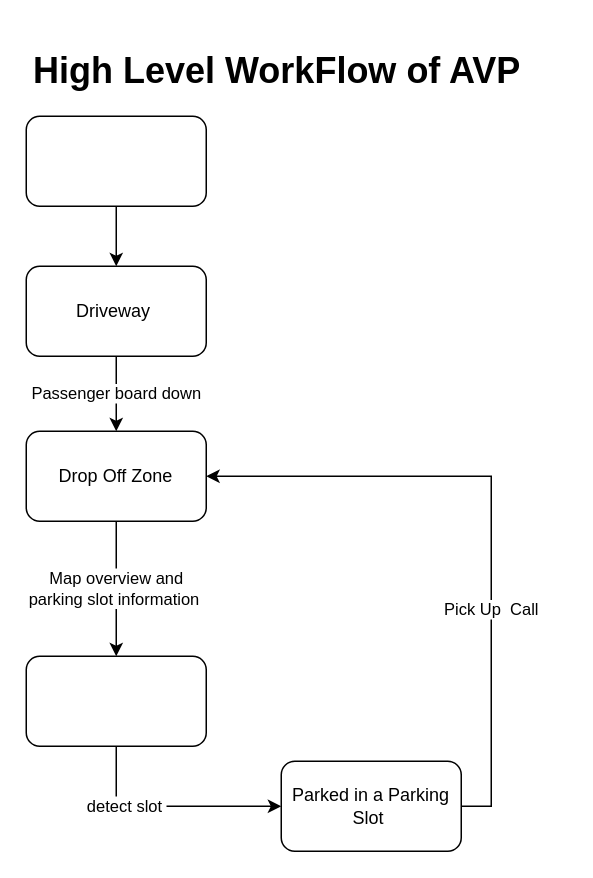
This 593x878 diagram has some shape labels left out. The centre of each missing label's shape, as x and y in pixels:
"Parking Preparation" goes at point 115,700.
"Parkway Drive" goes at point 115,160.
